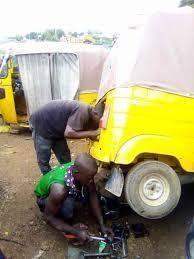keke: (28, 36, 193, 259), (0, 41, 123, 144)
